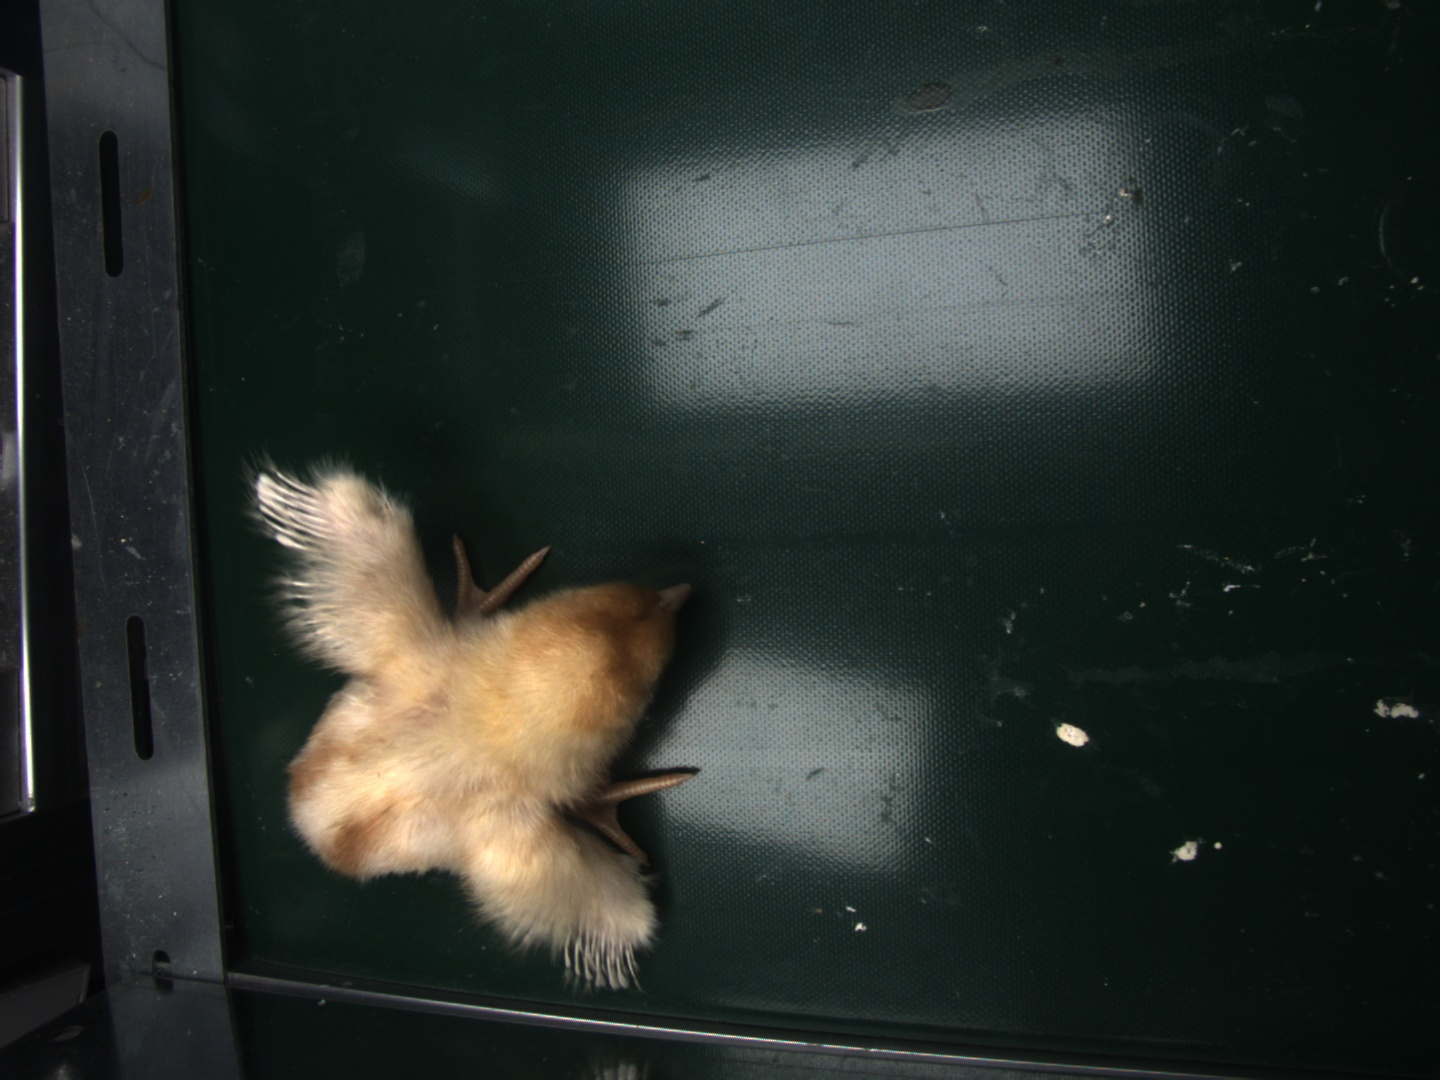female: (256, 463, 325, 554), (564, 923, 642, 988)
